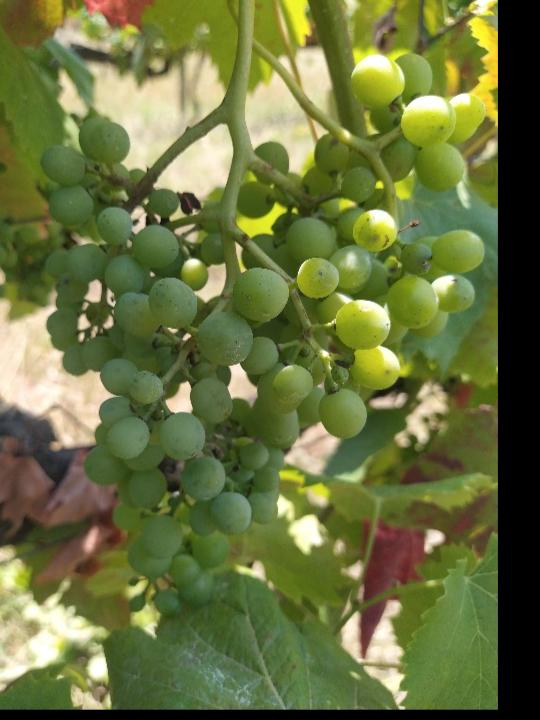grape: (43, 53, 489, 621)
